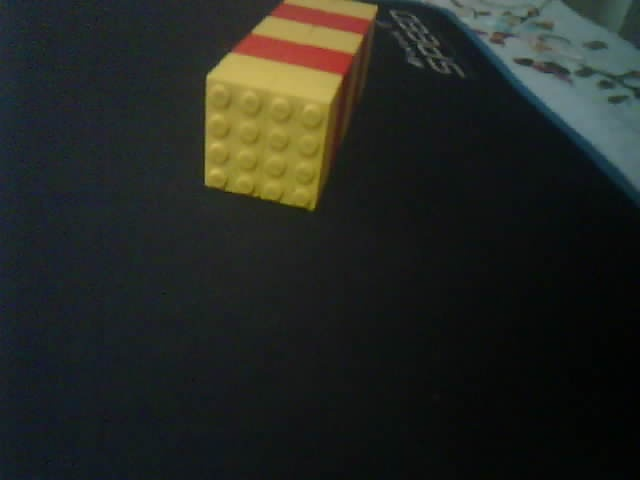lego: (202, 1, 378, 212)
